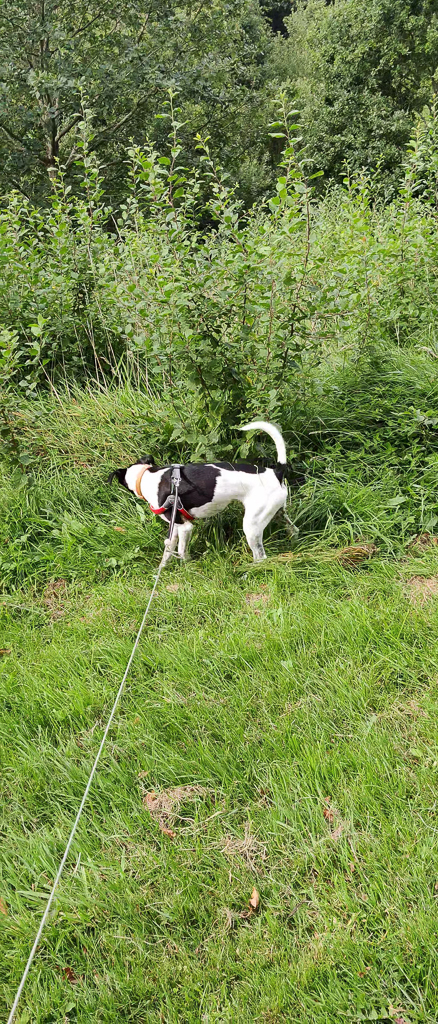Dog: (98, 416, 302, 575)
